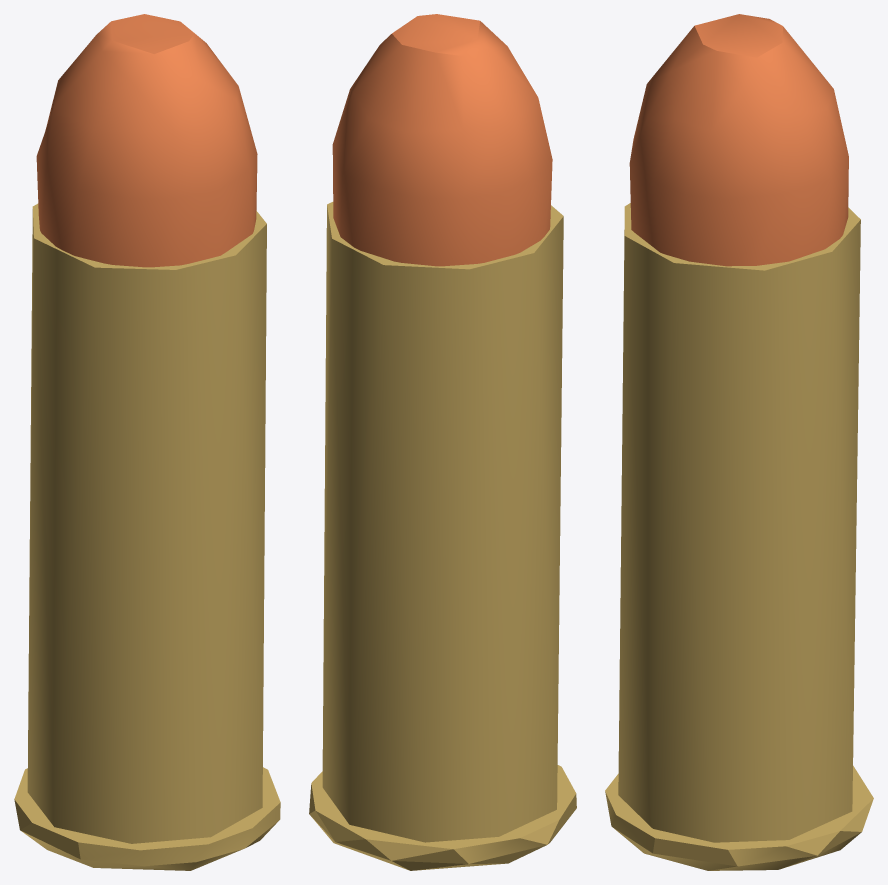
Rendered from SM_Webley_Bullet.fbx.
3 views of the same model, side by side, from view 1: azimuth 30°, elevation 25°; view 2: azimuth 150°, elevation 25°; view 3: azimuth 270°, elevation 25° (orthographic).
Visible parts, largest first — view 1: Bullet; view 2: Bullet; view 3: Bullet.
Part boxes in pixels (bbox=[...]): Bullet: bbox=[14, 14, 280, 870]; Bullet: bbox=[309, 14, 576, 870]; Bullet: bbox=[605, 14, 873, 870].
Size of the model in its own units: 1.3 by 4.22 by 1.3.
